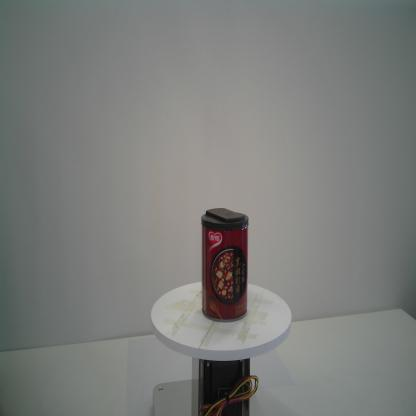Canned Food: (198, 206, 249, 323)
